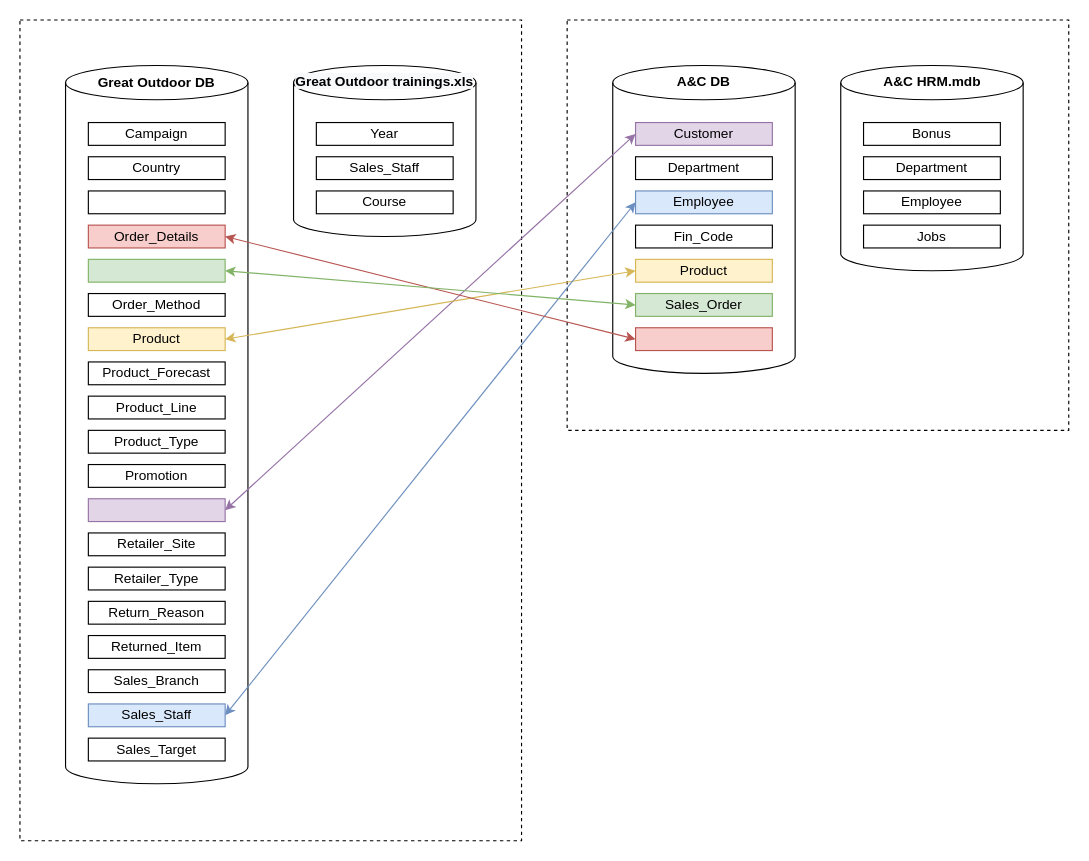
The diagram is 1089 pixels wide and 861 high, and some of its shapes have lost their labels. The centre of each missing label's shape, as x and y in pixels:
Inventory_Levels: the point at 156,202
Order_Header: the point at 156,270
Retailer: the point at 156,510
Sales_Order_Item: the point at 703,339
